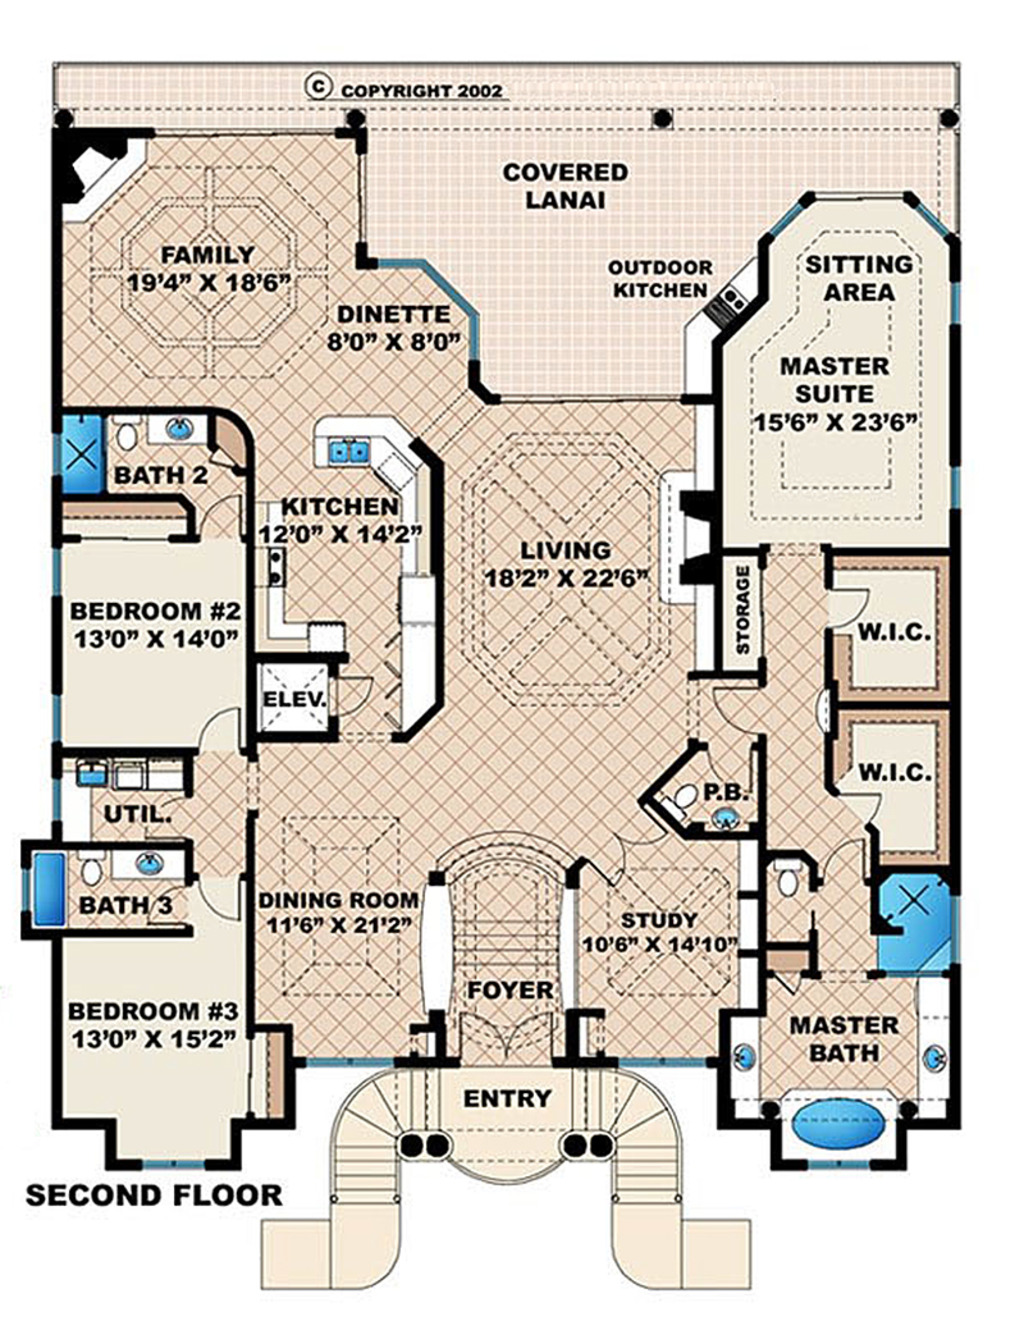door: (582, 800, 663, 887), (453, 1005, 553, 1073), (179, 874, 248, 921), (708, 680, 760, 733), (189, 705, 245, 754), (820, 581, 873, 630), (191, 495, 245, 543), (820, 838, 868, 890)
large_sink: (766, 860, 809, 905), (73, 847, 109, 893), (109, 411, 138, 451)
small_sink: (912, 1014, 959, 1095), (719, 1018, 760, 1109), (109, 853, 188, 885), (139, 414, 205, 451)
stairs: (319, 1070, 705, 1213)
tub: (769, 1090, 896, 1148), (28, 843, 69, 927)
twin_sink: (323, 431, 376, 473)
